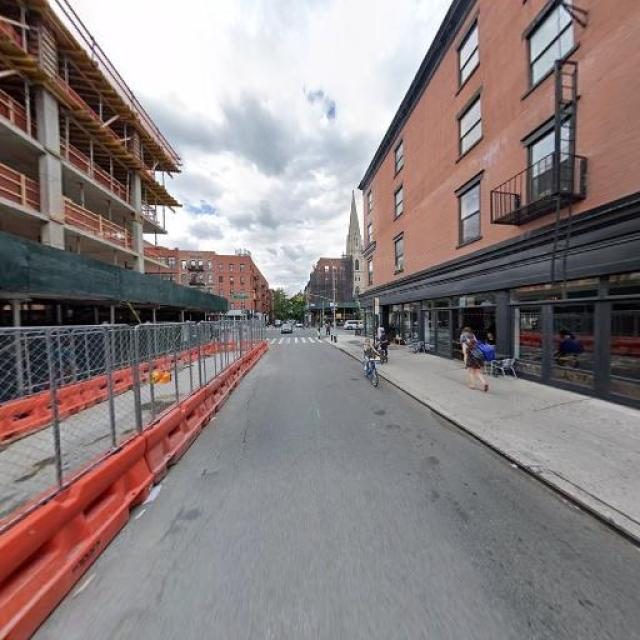Building: (364, 1, 640, 409), (1, 1, 165, 398)
